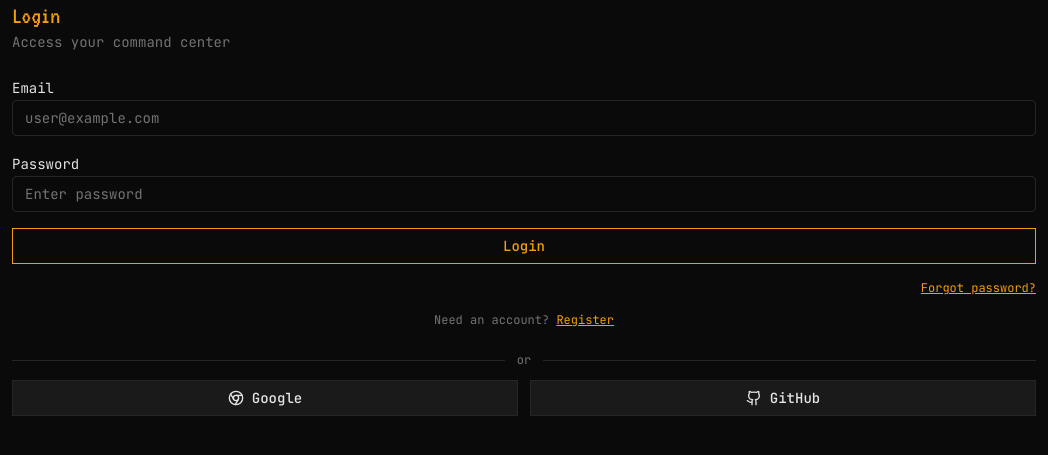
Test: LoginForm › shows validation error for empty password
// Fill in valid email to isolate password validation
Type "test@example.com" into the field with placeholder "user@example.com" at (524, 118), box [12,100,1036,136]
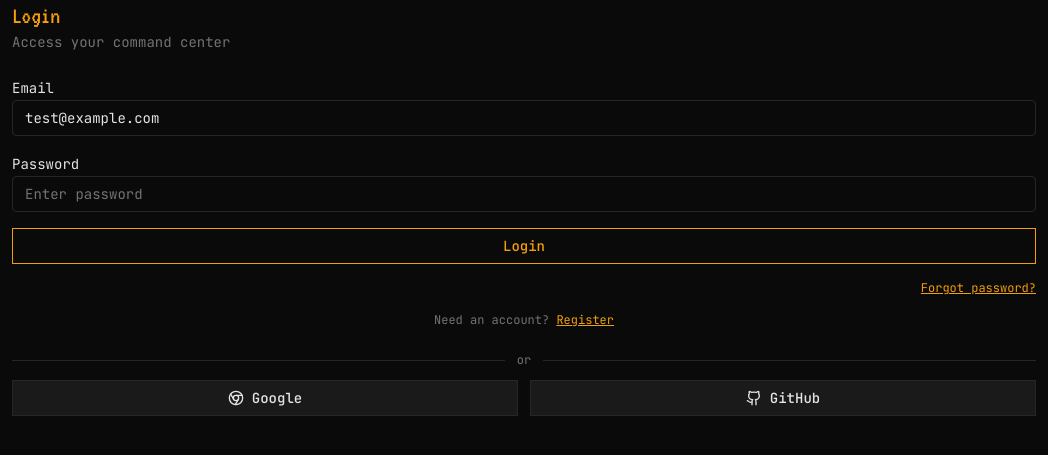
Click the button "Login" at (524, 246), box [12,228,1036,264]
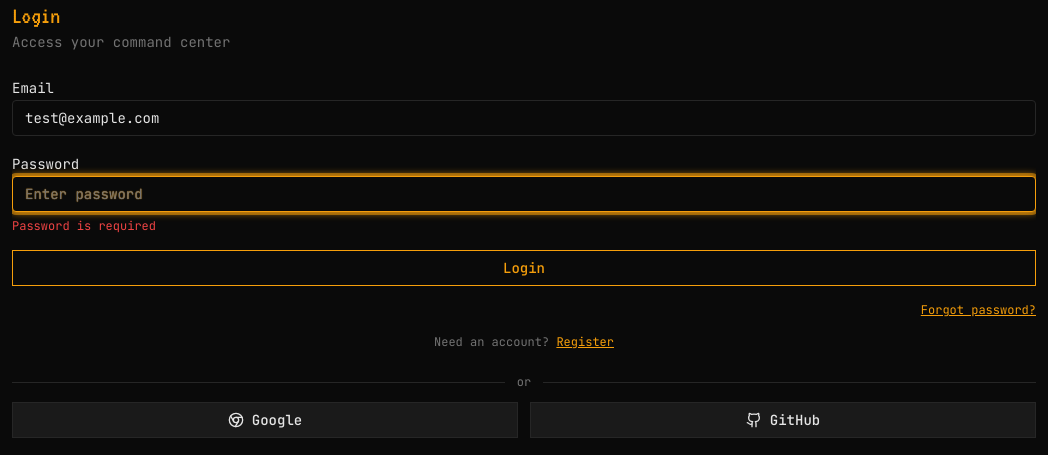
Now the text "Password is required" is shown, box [12,218,156,234]
